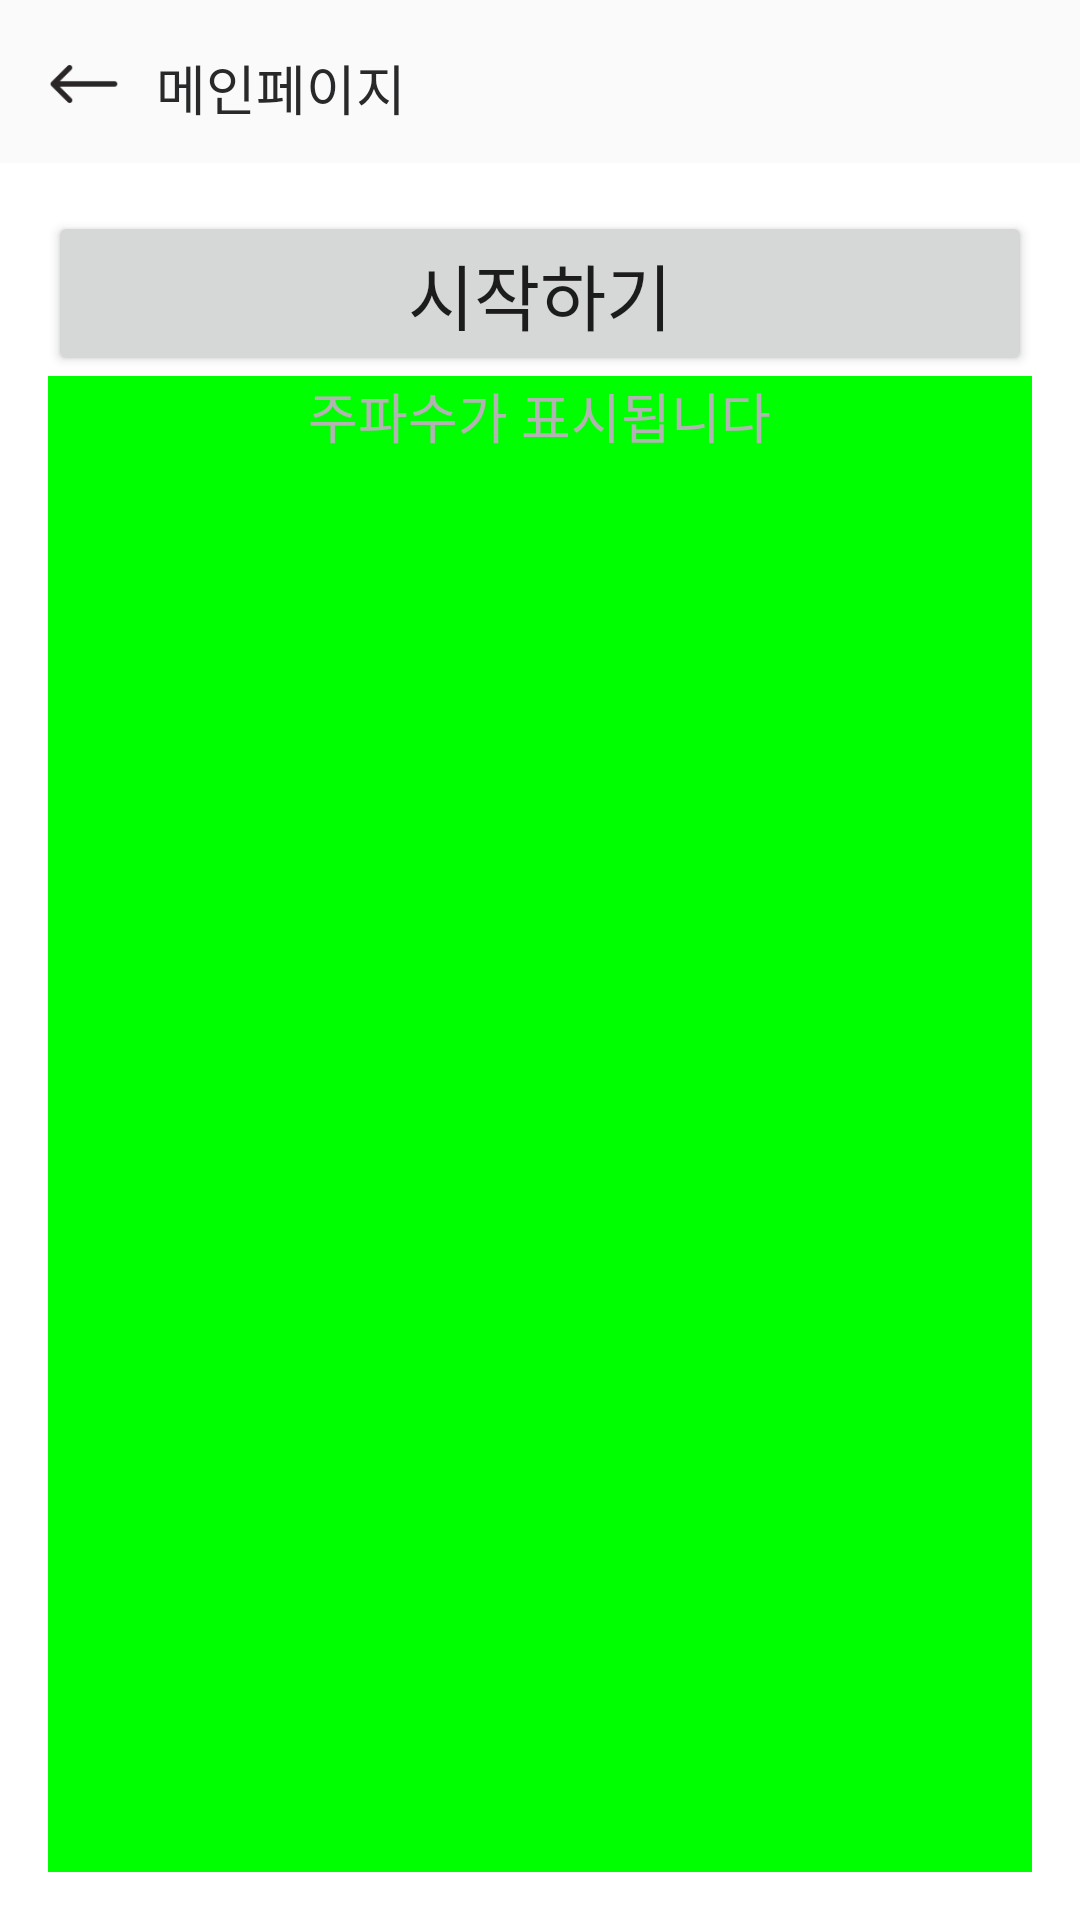

Icon click points for this 1080×1920 phone screenshot, format (x,y):
backicon: (84,84)
